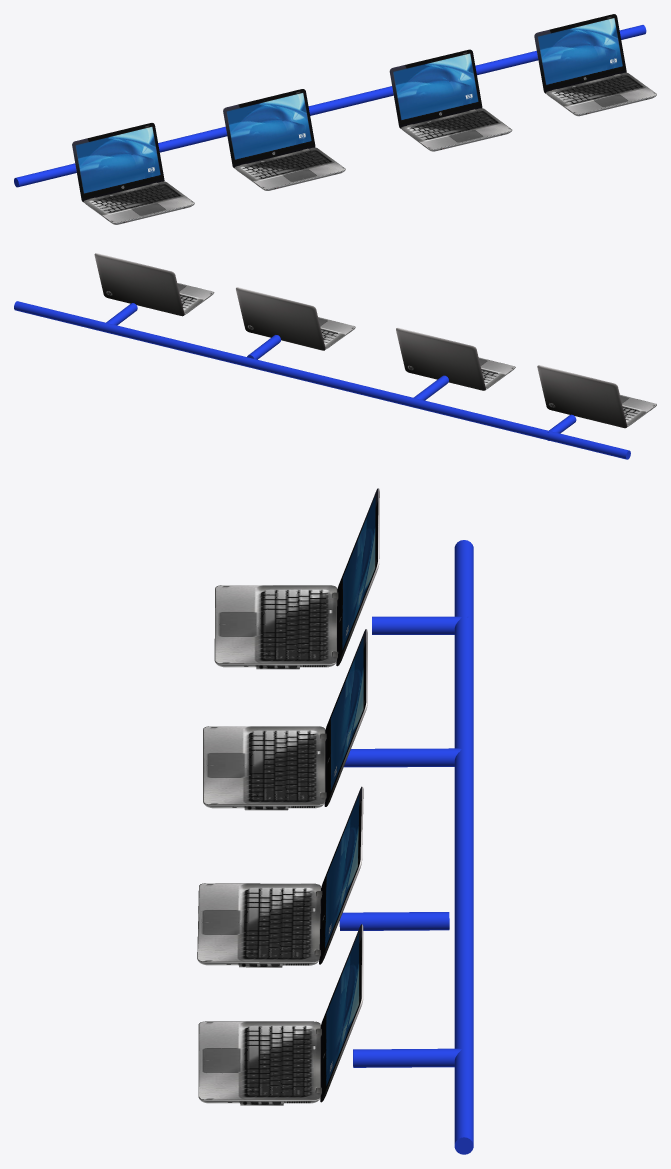
Rendered from Bus.DAE.
3 views of the same model, one above another, from view 1: azimuth 30°, elevation 25°; view 2: azimuth 150°, elevation 25°; view 3: azimuth 270°, elevation 25° (orthographic). The views are drawn at different scales.
Visible parts, largest first — view 1: Plane01, Plane02, Plane03, Plane, Cylinder02; view 2: Cylinder02, Plane02, Plane03, Plane, Plane01, Cylinder04, Cylinder03; view 3: Plane03, Plane, Plane02, Plane01, Cylinder02, Cylinder04, Cylinder03, Cylinder01, Cylinder05.
Part boxes in pixels (box(x1,y1,x2,y2)): Plane01: box(389, 49, 512, 151); Plane02: box(72, 122, 194, 224); Plane03: box(534, 14, 656, 116); Plane: box(223, 89, 345, 190); Cylinder02: box(14, 25, 646, 187); Cylinder02: box(14, 301, 630, 459); Plane02: box(537, 365, 656, 428); Plane03: box(94, 253, 214, 316); Plane: box(396, 328, 515, 390); Plane01: box(236, 287, 355, 350); Cylinder04: box(413, 375, 448, 400); Cylinder03: box(247, 335, 280, 359); Plane03: box(198, 924, 363, 1105); Plane: box(203, 629, 367, 810); Plane02: box(214, 488, 379, 669); Plane01: box(197, 786, 363, 967); Cylinder02: box(454, 540, 473, 1154); Cylinder04: box(344, 748, 461, 767); Cylinder03: box(339, 912, 449, 930); Cylinder01: box(353, 1048, 461, 1067); Cylinder05: box(372, 616, 468, 634).
Size of the model in its own units: 9.57 by 1.87 by 0.7951.
2 materials, 1 textured.
